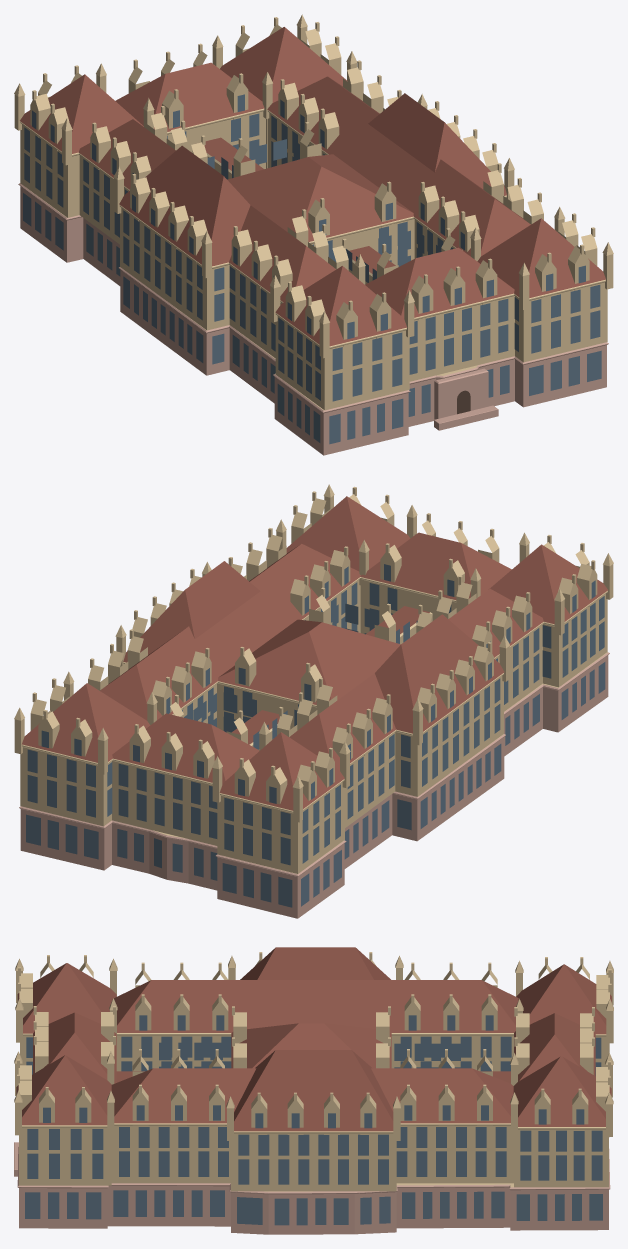
Rendered from stl-city-hall.glb.
3 views of the same model, one above another, from view 1: azimuth 30°, elevation 25°; view 2: azimuth 150°, elevation 25°; view 3: azimuth 270°, elevation 25° (orthographic). The views are drawn at different scales.
Parts seen in each view (by area): view 1: St. Louis City Hall; view 2: St. Louis City Hall; view 3: St. Louis City Hall.
Part boxes in pixels (left/top/right/bottom): St. Louis City Hall: left=14, top=14, right=613, bottom=455; St. Louis City Hall: left=14, top=484, right=613, bottom=918; St. Louis City Hall: left=14, top=947, right=613, bottom=1234.
Bounding box in the file's own units: 68.1 × 36.5 × 120.
